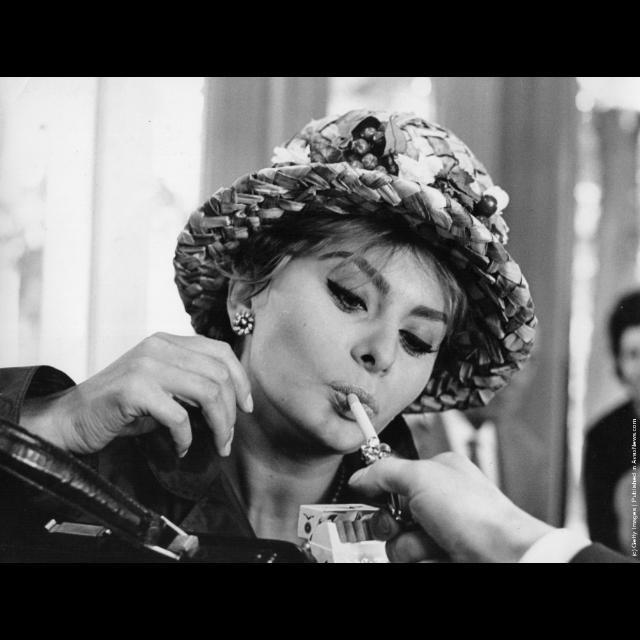rokok: (342, 391, 384, 461)
